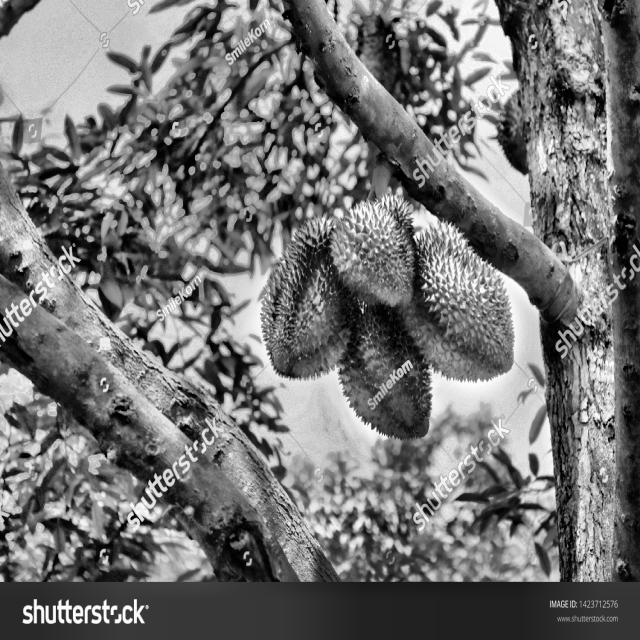arvore: (482, 0, 640, 579)
